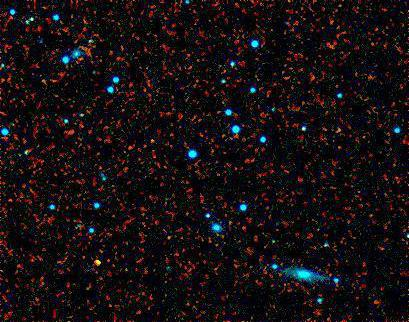star: (83, 245, 113, 275)
